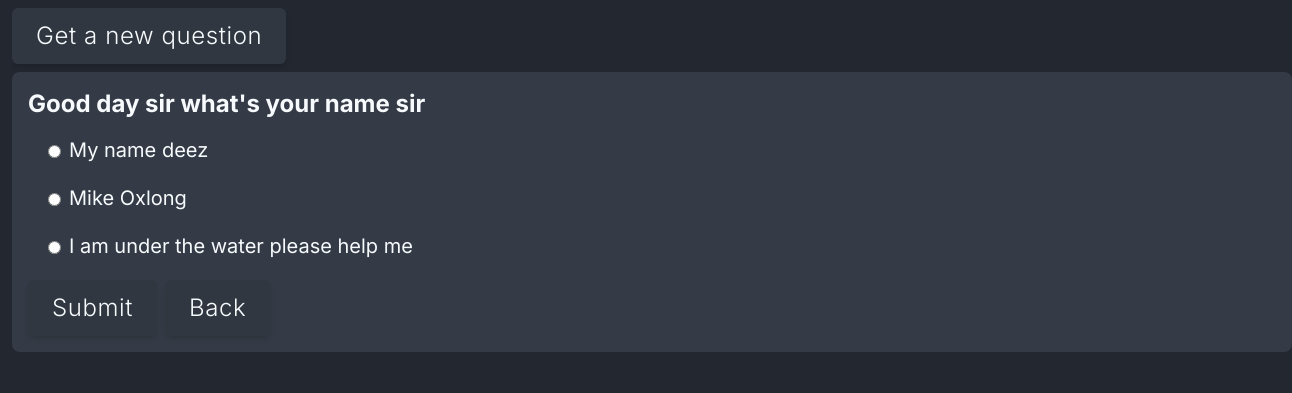
Test: RandomQuestion page tests › RandomQuestion useMutate submit wrong answer
Step 1. Click the text "Mike Oxlong" → [128, 200], box [65, 184, 191, 216]
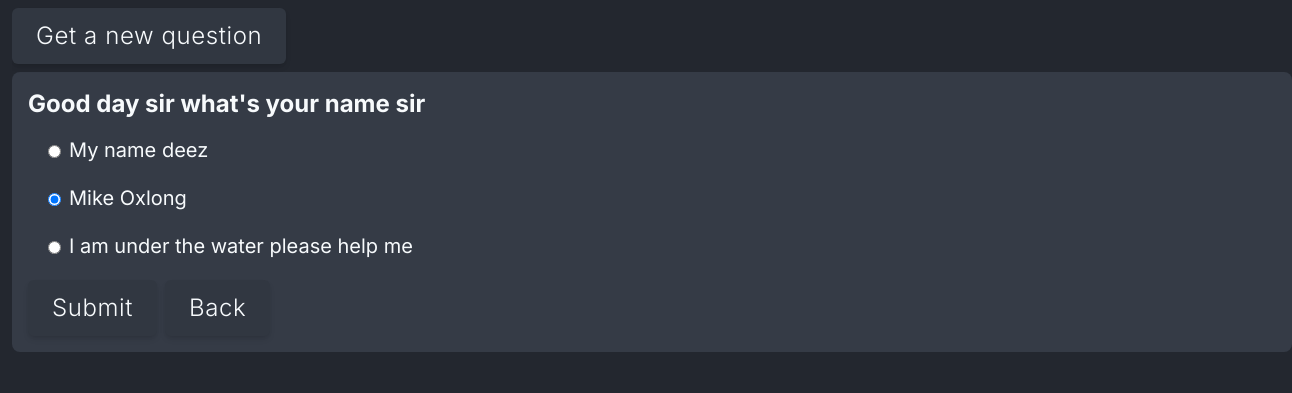
Step 2. Click the button "Submit" → [93, 308], box [28, 280, 157, 336]
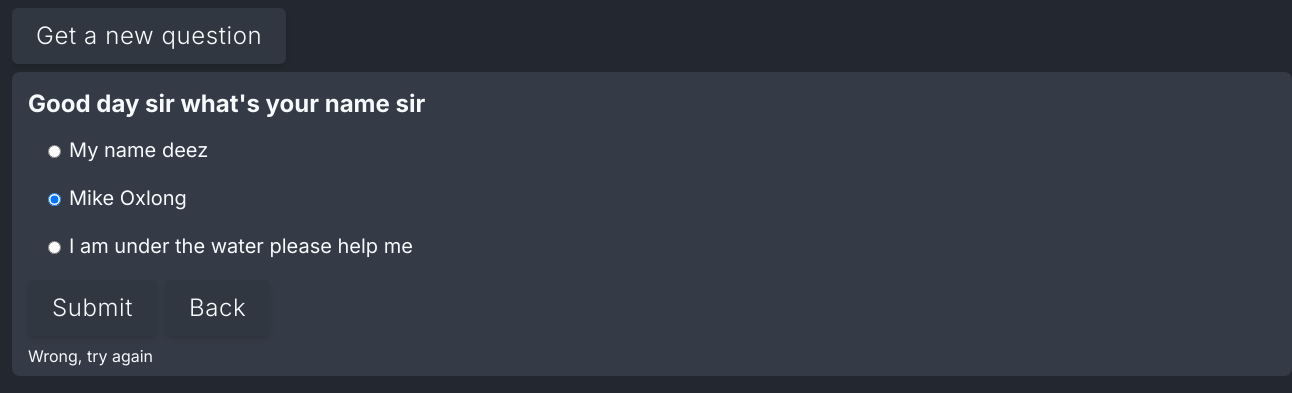
Expected: the text "Wrong, try again" is shown, [28, 346, 153, 366]
